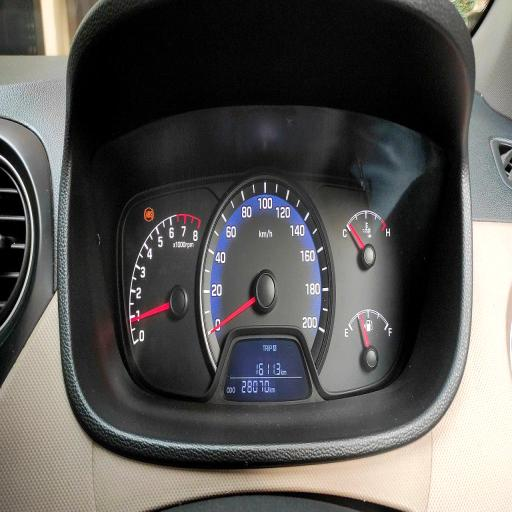tachometer: (130, 213, 203, 372)
